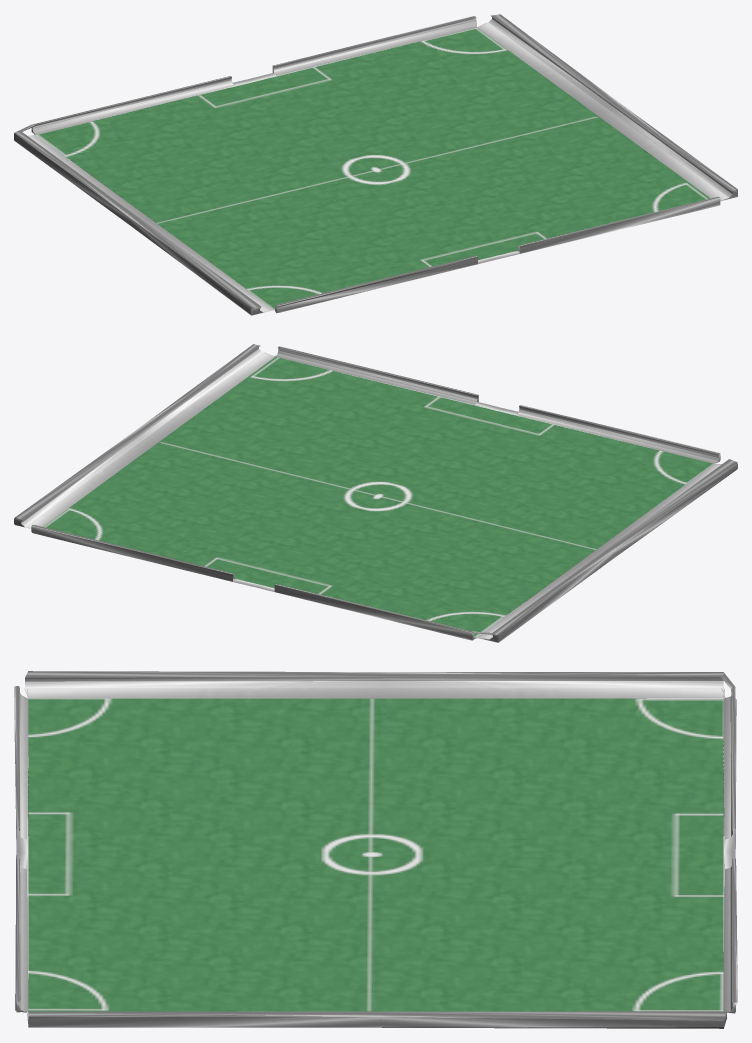
File: feld_export.obj
The picture shows the model from 3 angles, top to bottom: view 1: azimuth 30°, elevation 25°; view 2: azimuth 150°, elevation 25°; view 3: azimuth 270°, elevation 25°; orthographic projection. The views are drawn at different scales.
Visible parts, largest first — view 1: Plane; view 2: Plane; view 3: Plane.
Part boxes in pixels (x1,y1,x2,y2): Plane: (14,14,737,315); Plane: (14,344,737,642); Plane: (14,671,737,1028).
Bounding box in the file's own units: 136 × 2.04 × 119.
